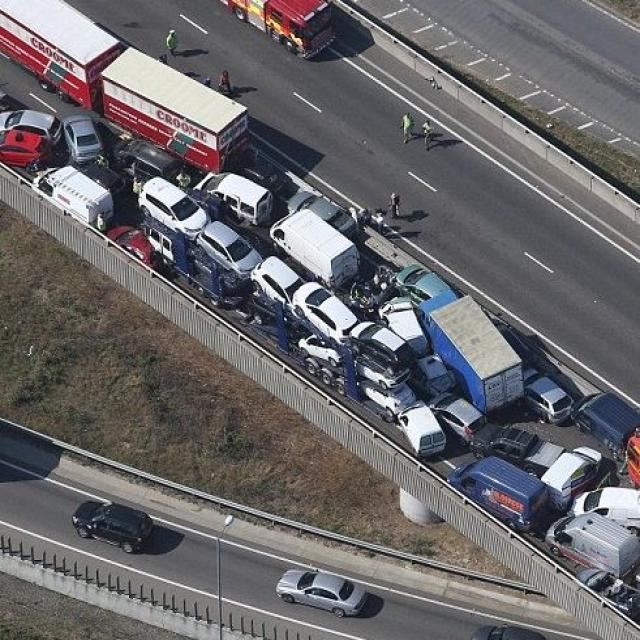traffic_incident: (99, 124, 282, 220), (396, 346, 511, 462), (348, 259, 404, 312)
